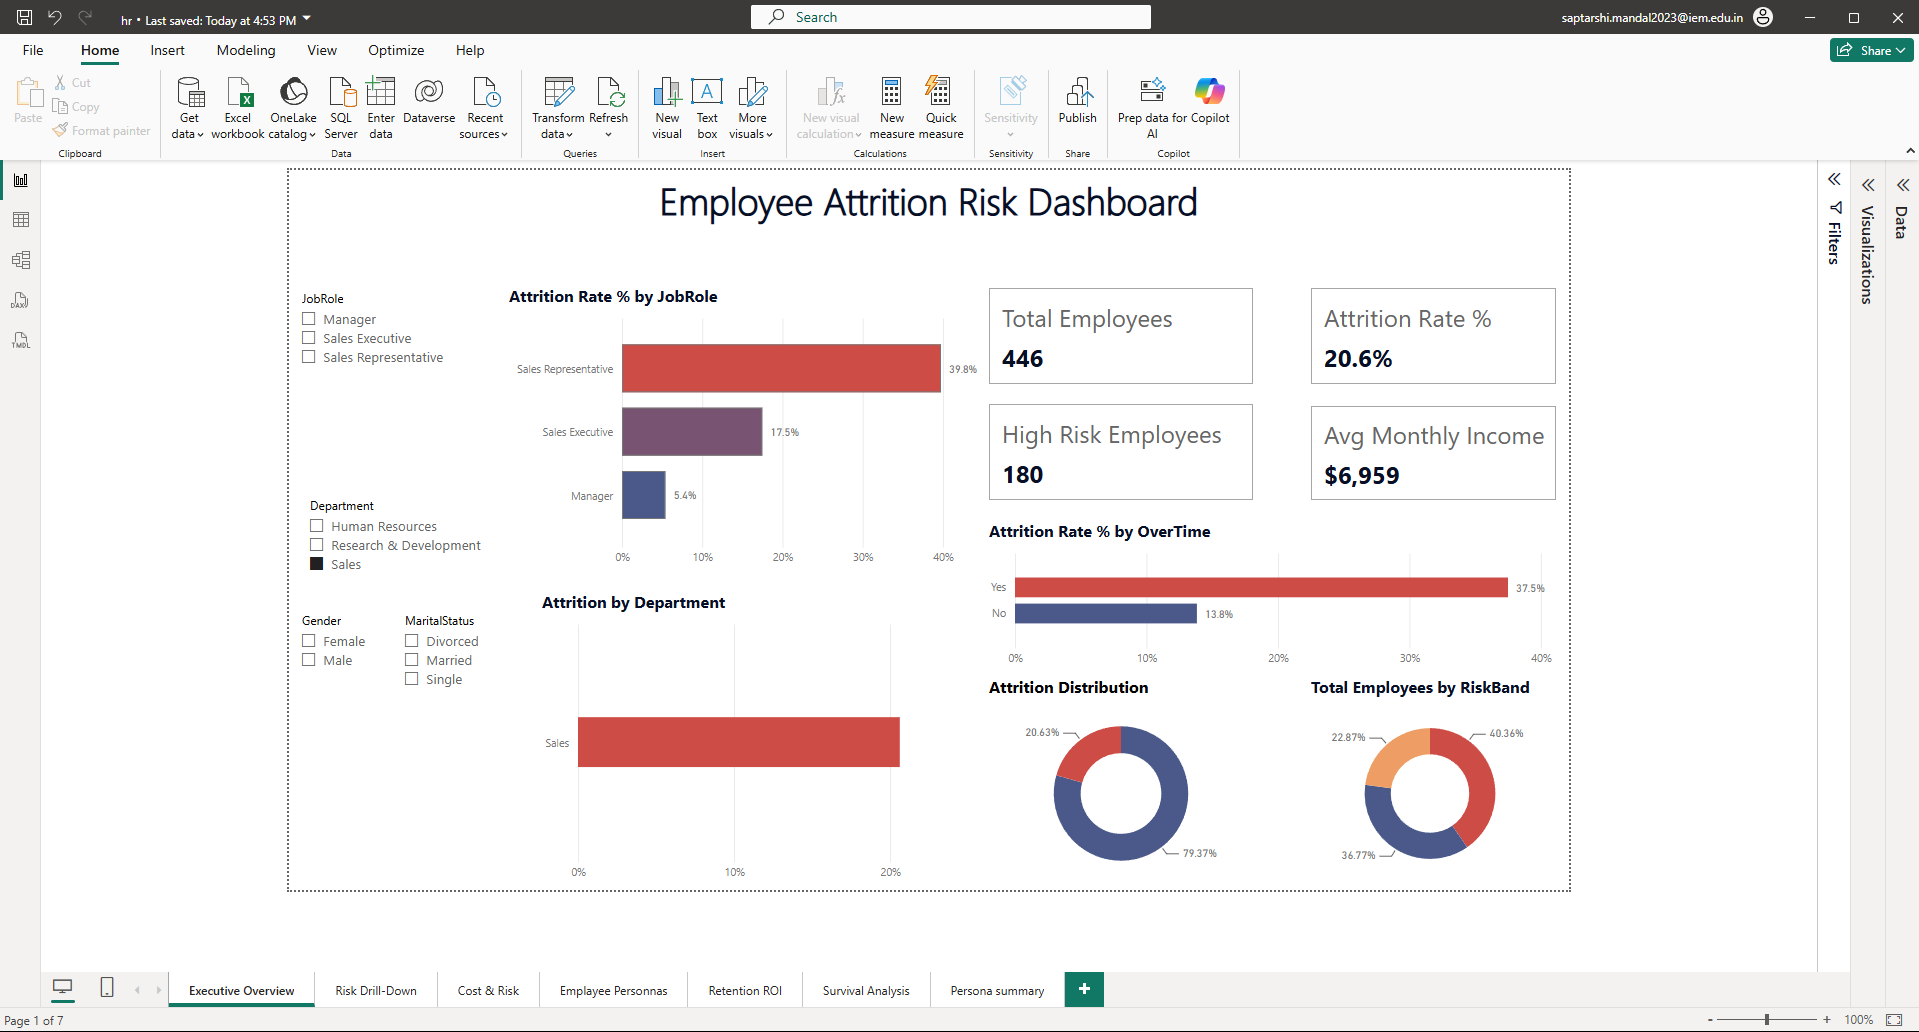

The dashboard page shown, as its layout file describes it:
{"tool":"powerbi","page":{"name":"Executive Overview","canvas":[1280,720],"ordinal":0},"visuals":[{"type":"cardVisual","fields":{"Data":["HR_Attrition_PowerBI_Ready.Total Employees"]},"box":[695,113,274,106],"z":0},{"type":"cardVisual","fields":{"Data":["HR_Attrition_PowerBI_Ready.Attrition Rate %"]},"box":[1017,113,255,106],"z":1000},{"type":"cardVisual","fields":{"Data":["HR_Attrition_PowerBI_Ready.High Risk Employees"]},"box":[695,229,274,106],"z":2000},{"type":"cardVisual","fields":{"Data":["HR_Attrition_PowerBI_Ready.Avg Monthly Income"]},"box":[1017,231,255,104],"z":3000},{"type":"donutChart","title":"Attrition Distribution","fields":{"Category":["HR_Attrition_PowerBI_Ready.Attrition"],"Series":["HR_Attrition_PowerBI_Ready.Attrition"],"Y":["CountNonNull(HR_Attrition_PowerBI_Ready.Attrition)"]},"box":[695,506,274,214],"z":4000},{"type":"clusteredBarChart","fields":{"Category":["HR_Attrition_PowerBI_Ready.OverTime"],"Y":["HR_Attrition_PowerBI_Ready.Attrition Rate %"]},"box":[695,350,577,156],"z":5000},{"type":"clusteredBarChart","fields":{"Category":["HR_Attrition_PowerBI_Ready.JobRole"],"Y":["HR_Attrition_PowerBI_Ready.Attrition Rate %"]},"box":[215.5,115.5,490,290],"z":6000},{"type":"clusteredBarChart","title":"Attrition by Department","fields":{"Category":["HR_Attrition_PowerBI_Ready.Department"],"Y":["HR_Attrition_PowerBI_Ready.Attrition Rate %"]},"box":[248,421,447,299],"z":7000},{"type":"donutChart","fields":{"Category":["HR_Attrition_PowerBI_Ready.RiskBand"],"Y":["HR_Attrition_PowerBI_Ready.Total Employees"]},"box":[1017,506,248,214],"z":8000},{"type":"slicer","fields":{"Values":["HR_Attrition_PowerBI_Ready.Department"]},"box":[8,322,223,115],"z":9000},{"type":"slicer","fields":{"Values":["HR_Attrition_PowerBI_Ready.Gender"]},"box":[0,437,96,114],"z":10000},{"type":"slicer","fields":{"Values":["HR_Attrition_PowerBI_Ready.JobRole"]},"box":[0,115,207,207],"z":11000},{"type":"slicer","fields":{"Values":["HR_Attrition_PowerBI_Ready.MaritalStatus"]},"box":[103,437,128,115],"z":12000},{"type":"textbox","box":[0,0,1280,63.6],"z":13000}]}

Visuals, with their boxes on the page's 1280x720 design canvas (x1, y1, x2, y2). These are canvas units, not pixel positions in the 1919x1032 screenshot, which may show the page scaled, cropped or inside an application window:
cardVisual - HR_Attrition_PowerBI_Ready.Total Employees: {"x1": 695, "y1": 113, "x2": 969, "y2": 219}
cardVisual - HR_Attrition_PowerBI_Ready.Attrition Rate %: {"x1": 1017, "y1": 113, "x2": 1272, "y2": 219}
cardVisual - HR_Attrition_PowerBI_Ready.High Risk Employees: {"x1": 695, "y1": 229, "x2": 969, "y2": 335}
cardVisual - HR_Attrition_PowerBI_Ready.Avg Monthly Income: {"x1": 1017, "y1": 231, "x2": 1272, "y2": 335}
"Attrition Distribution" donutChart: {"x1": 695, "y1": 506, "x2": 969, "y2": 720}
clusteredBarChart - HR_Attrition_PowerBI_Ready.OverTime x HR_Attrition_PowerBI_Ready.Attrition Rate %: {"x1": 695, "y1": 350, "x2": 1272, "y2": 506}
clusteredBarChart - HR_Attrition_PowerBI_Ready.JobRole x HR_Attrition_PowerBI_Ready.Attrition Rate %: {"x1": 216, "y1": 116, "x2": 706, "y2": 406}
"Attrition by Department" clusteredBarChart: {"x1": 248, "y1": 421, "x2": 695, "y2": 720}
donutChart - HR_Attrition_PowerBI_Ready.RiskBand x HR_Attrition_PowerBI_Ready.Total Employees: {"x1": 1017, "y1": 506, "x2": 1265, "y2": 720}
slicer - HR_Attrition_PowerBI_Ready.Department: {"x1": 8, "y1": 322, "x2": 231, "y2": 437}
slicer - HR_Attrition_PowerBI_Ready.Gender: {"x1": 0, "y1": 437, "x2": 96, "y2": 551}
slicer - HR_Attrition_PowerBI_Ready.JobRole: {"x1": 0, "y1": 115, "x2": 207, "y2": 322}
slicer - HR_Attrition_PowerBI_Ready.MaritalStatus: {"x1": 103, "y1": 437, "x2": 231, "y2": 552}
textbox: {"x1": 0, "y1": 0, "x2": 1280, "y2": 64}
